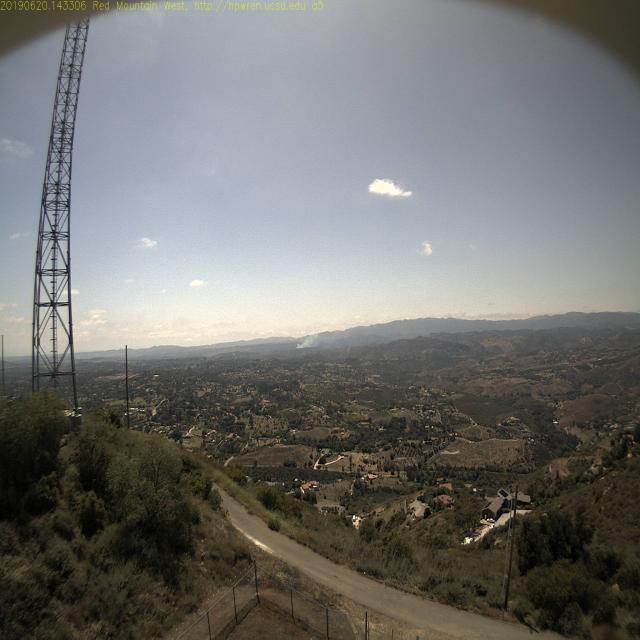smoke: (291, 329, 318, 354)
